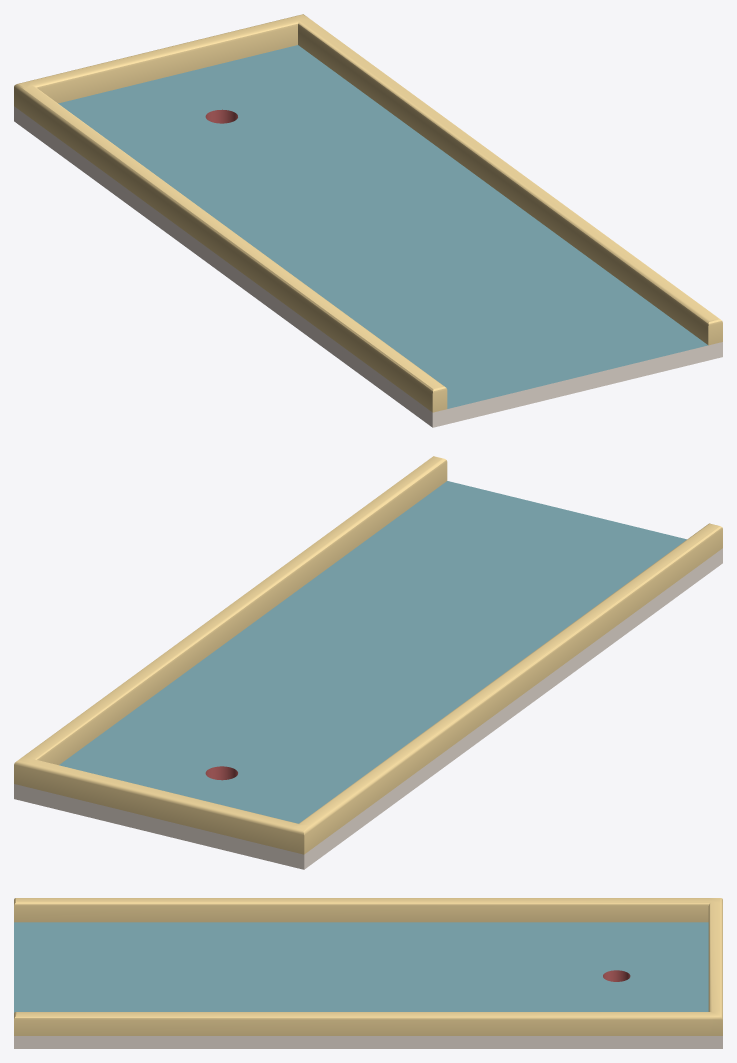
File: GolfTrack1.fbx
3 views of the same model, one above another, from view 1: azimuth 30°, elevation 25°; view 2: azimuth 150°, elevation 25°; view 3: azimuth 270°, elevation 25° (orthographic). The views are drawn at different scales.
Visible parts, largest first — view 1: GolfTrack; view 2: GolfTrack; view 3: GolfTrack.
Part boxes in pixels (x1=…): GolfTrack: x1=14, y1=14, x2=722, y2=427; GolfTrack: x1=14, y1=456, x2=722, y2=869; GolfTrack: x1=14, y1=898, x2=722, y2=1048.
Size of the model in its own units: 200 by 25 by 500.
